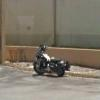Motorcycle: (30, 38, 81, 84)
